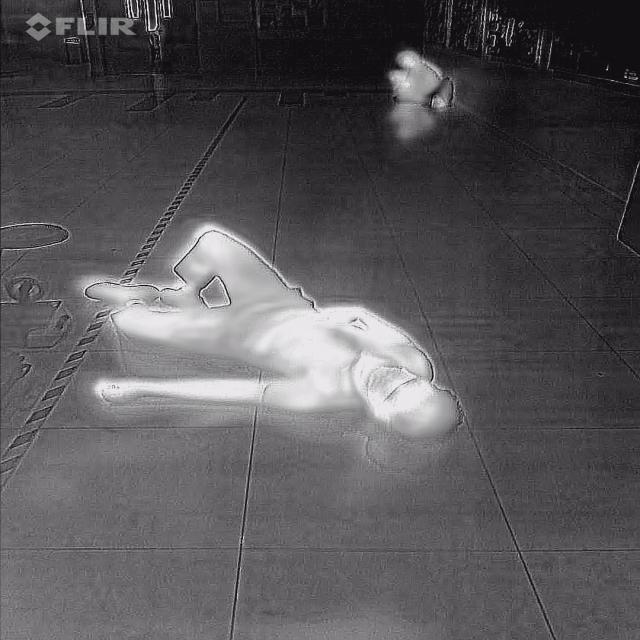Victim: (81, 230, 467, 448), (378, 47, 456, 108)
